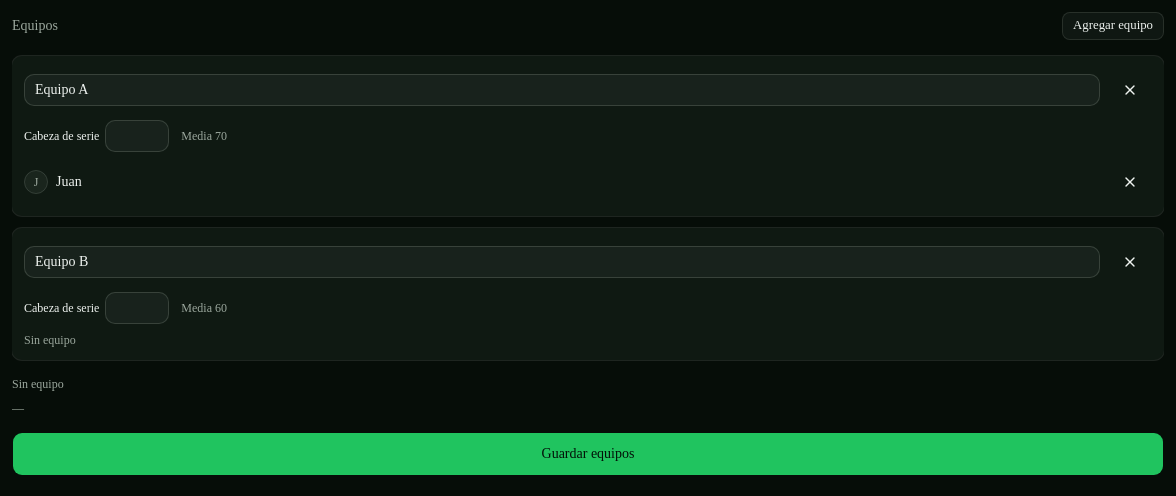
Scenario: EntriesEditor editable mode › unassigns a player back to the unassigned list when its remove button is clicked
Click the button named "Sacar del equipo": (1130, 182) [1108,160,1152,204]
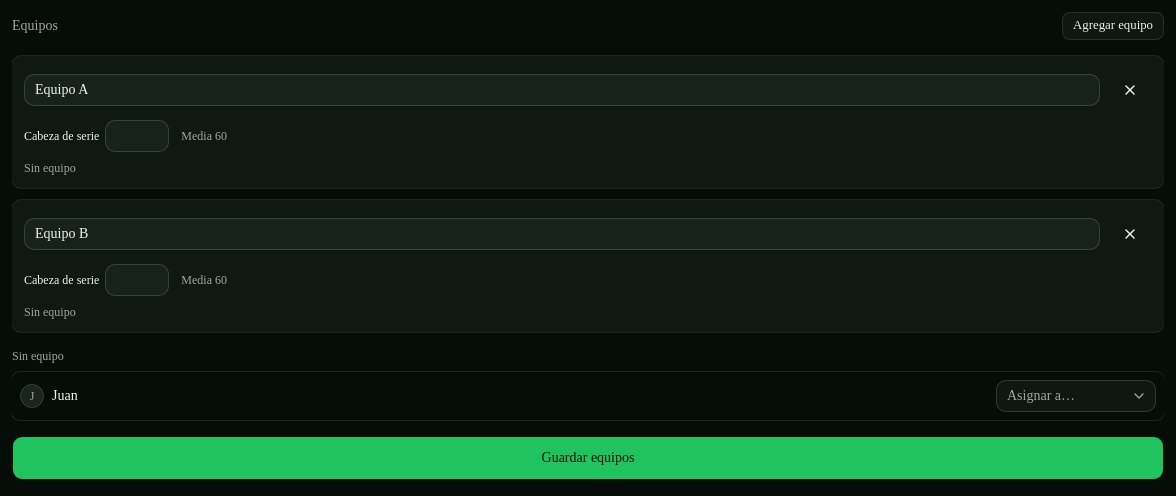
Expected: the dropdown is shown, [996,380,1156,412]
